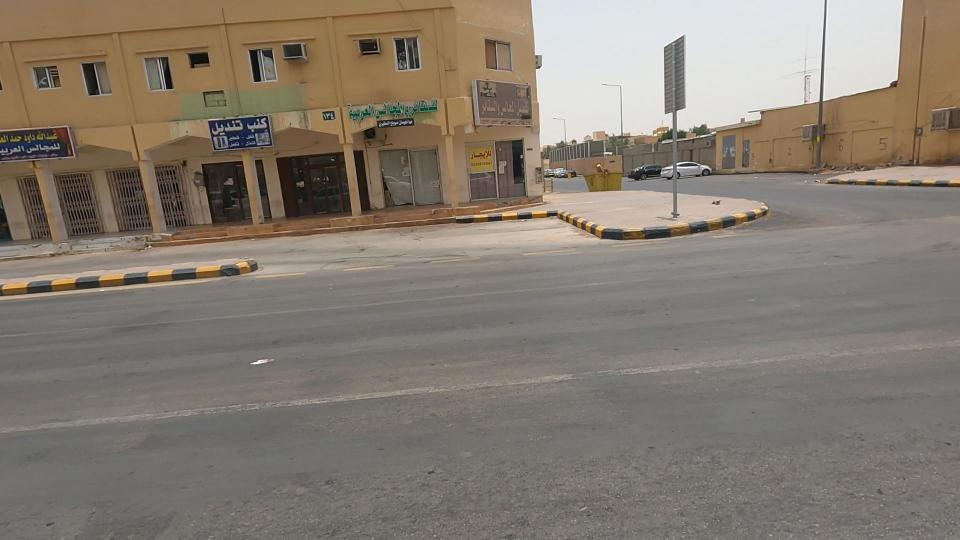BAD_BILLBOARD: (435, 54, 575, 156)
GARBAGE: (212, 333, 318, 395)
